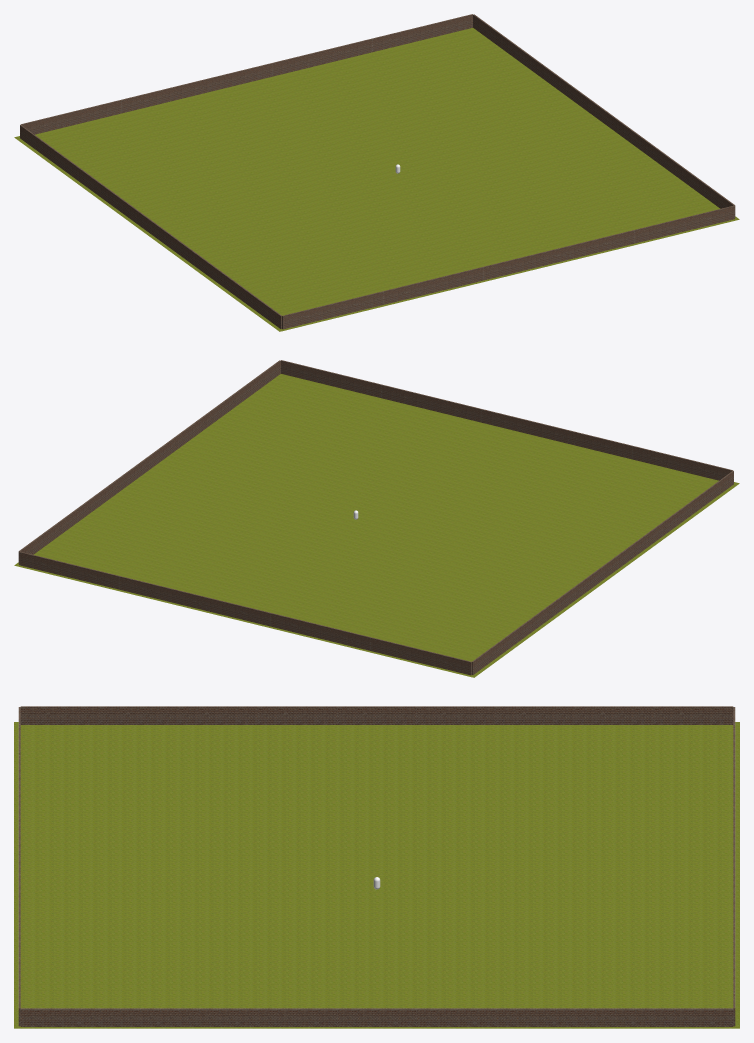
The model's file is map.glb.
The picture shows the model from 3 angles, top to bottom: view 1: azimuth 30°, elevation 25°; view 2: azimuth 150°, elevation 25°; view 3: azimuth 270°, elevation 25°; orthographic projection. The views are drawn at different scales.
Visible parts, largest first — view 1: Plane, walls; view 2: Plane, walls; view 3: Plane, walls.
Boxes of the visible parts, bbox=[...] form: Plane: bbox=[14, 28, 739, 331]; walls: bbox=[20, 14, 735, 329]; Plane: bbox=[14, 374, 739, 677]; walls: bbox=[18, 360, 733, 675]; Plane: bbox=[14, 722, 739, 1028]; walls: bbox=[18, 706, 735, 1026].
Size of the model in its own units: 110 by 3 by 110.
3 materials, 2 textured.
